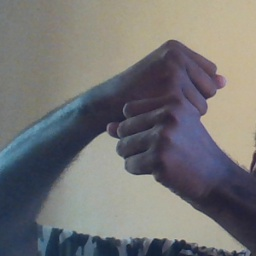G: (104, 33, 228, 183)
